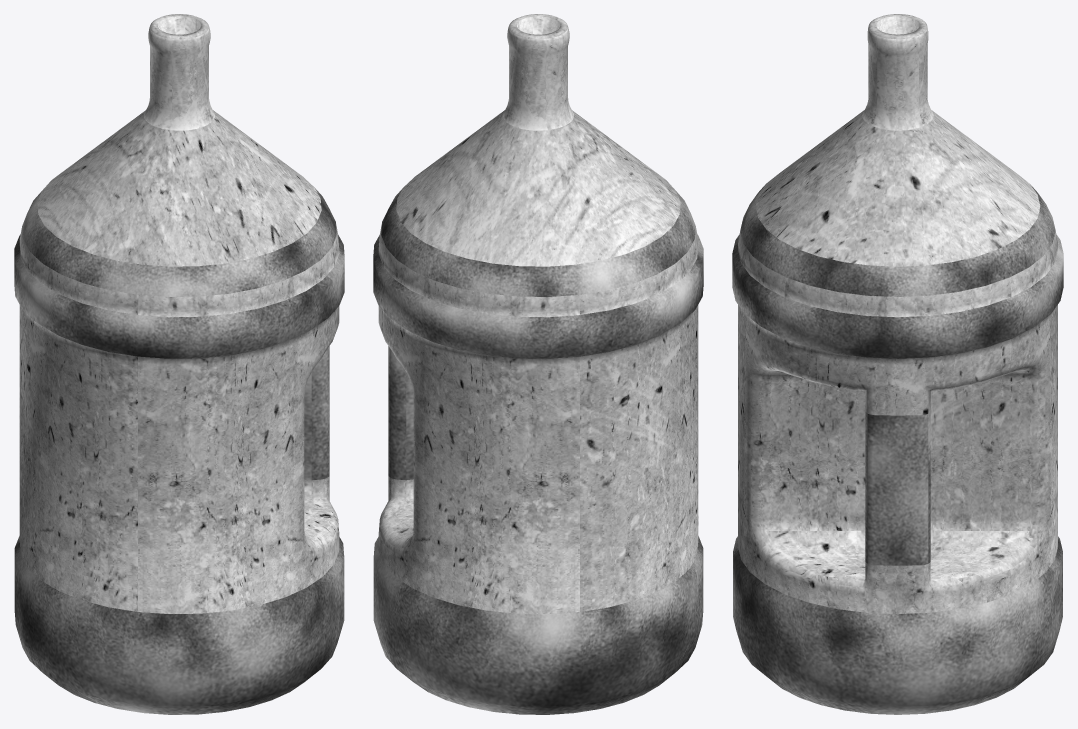
Rendered from jug.fbx.
3 views of the same model, side by side, from view 1: azimuth 30°, elevation 25°; view 2: azimuth 150°, elevation 25°; view 3: azimuth 270°, elevation 25° (orthographic).
Visible parts, largest first — view 1: Cylinder; view 2: Cylinder; view 3: Cylinder.
Boxes of the visible parts, x1,y1,x2,y2 form: Cylinder: (14, 14, 344, 714); Cylinder: (373, 14, 703, 714); Cylinder: (732, 14, 1063, 714).
Bounding box in the file's own units: 207 × 439 × 207.
